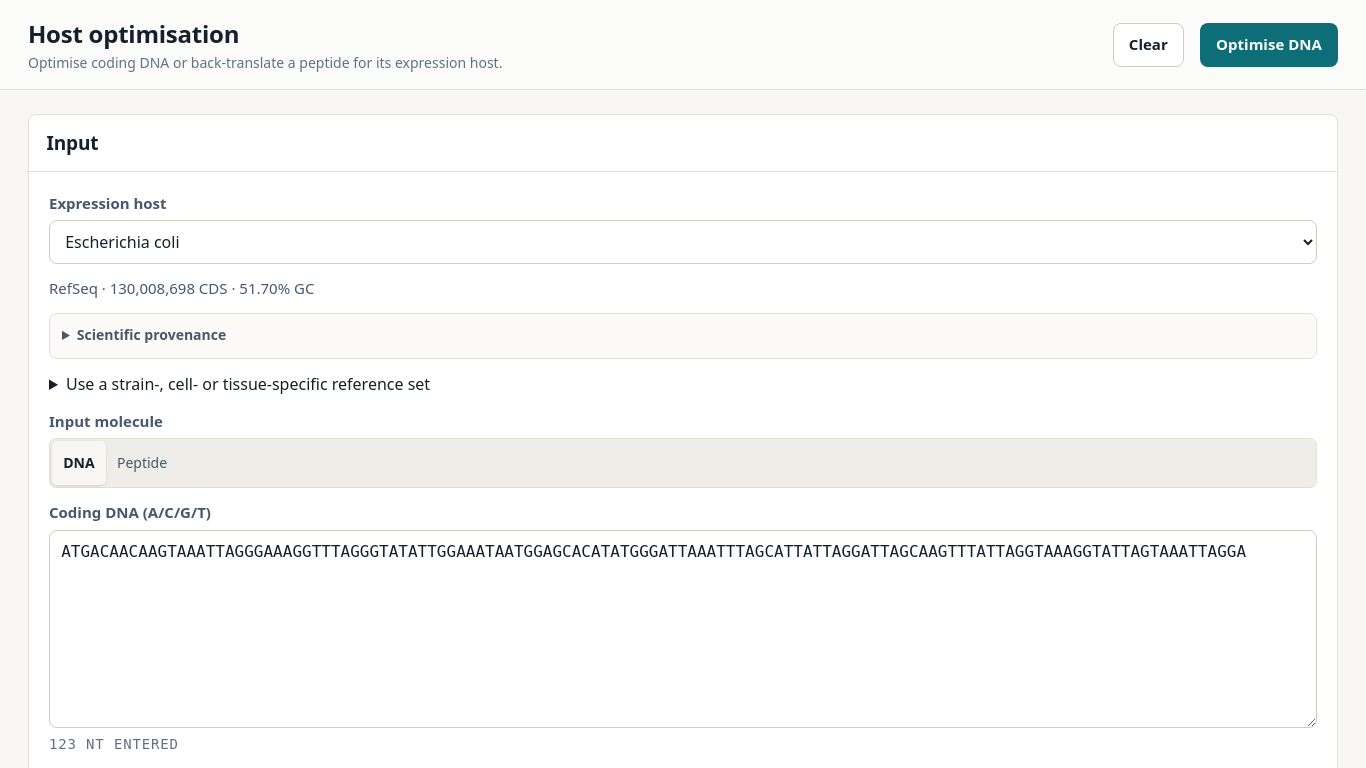
host-specific codon optimisation › loads the host catalogue and exposes the selected table source
The image size is (1366, 768).
Select "Saccharomyces cerevisiae" in the dropdown labelled "Expression host" at (683, 242), box [49, 220, 1317, 264]
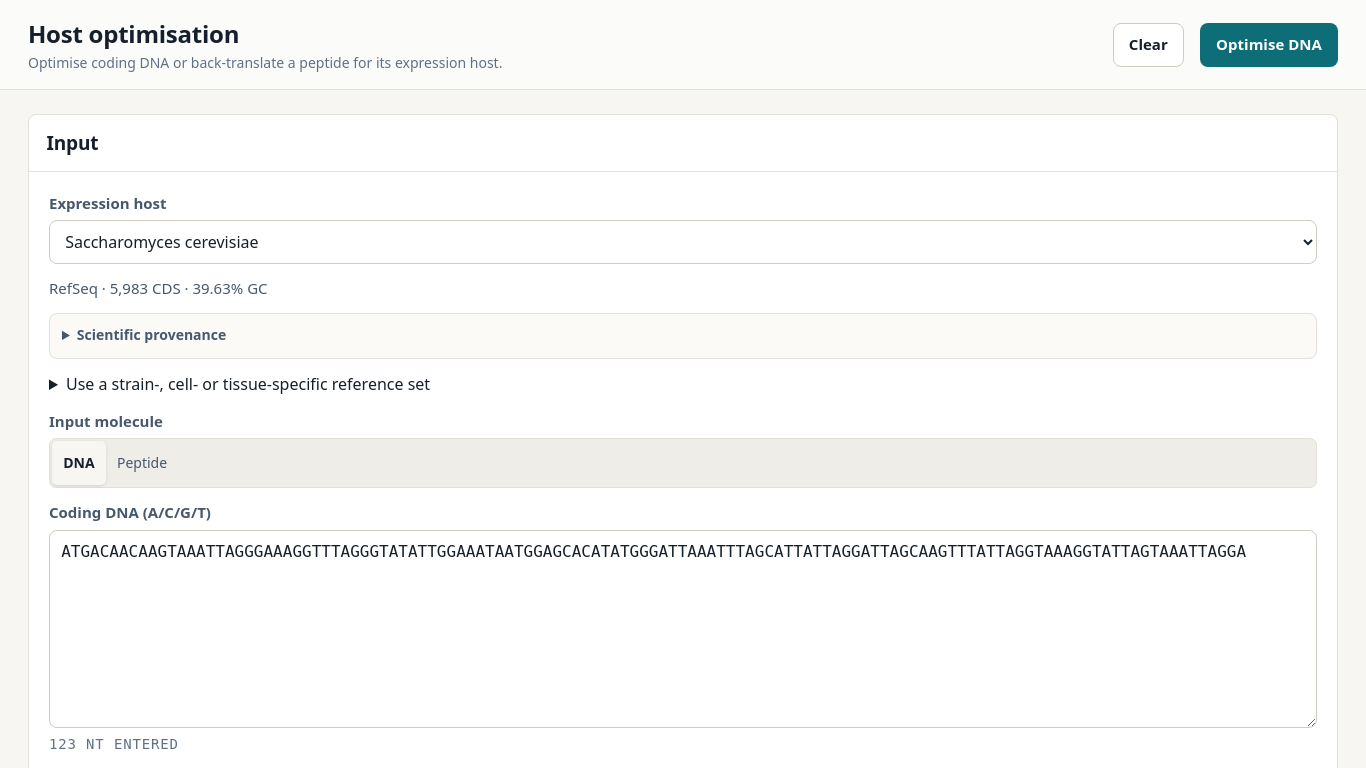
Expected: the text "RefSeq · 5,983 CDS · 39.63% GC" is shown, [49, 278, 268, 298]
